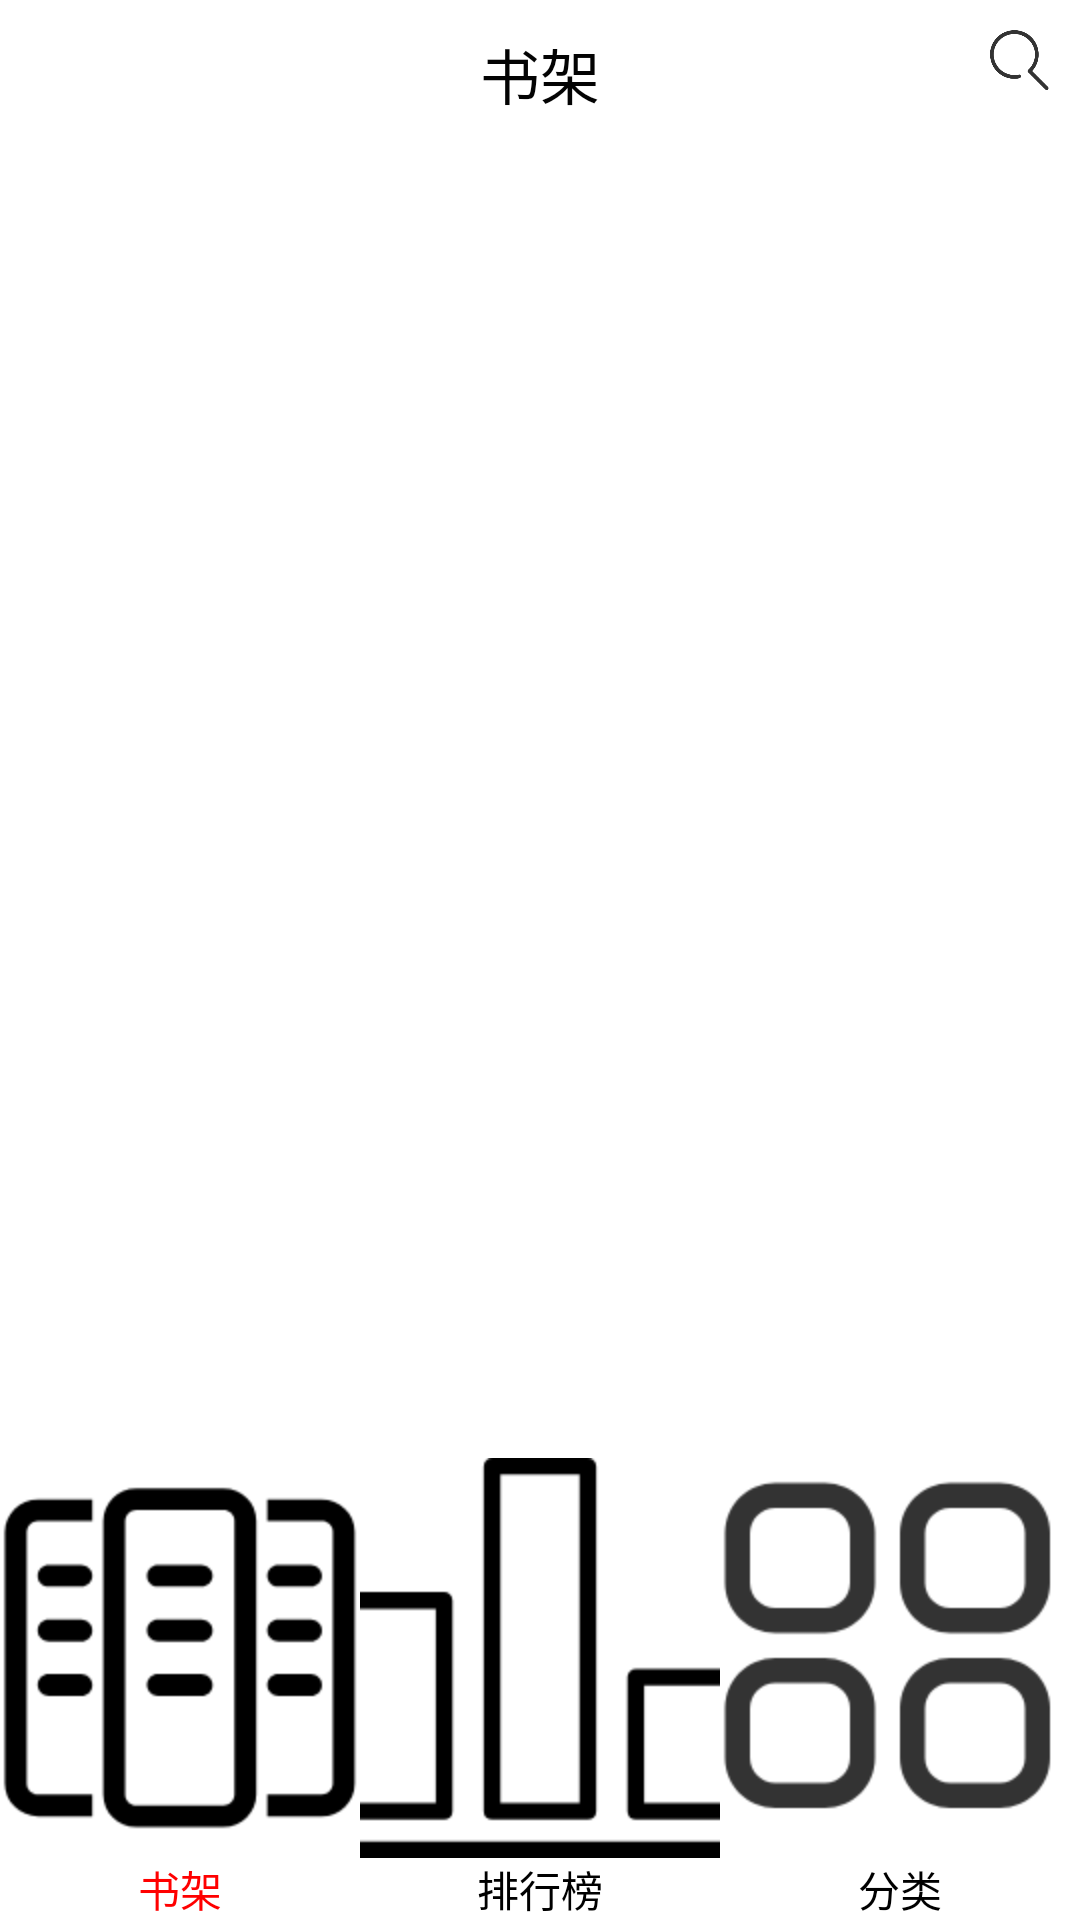

Screen size 1080px x 1920px. Icon name, then its center in pixels as [x,y]:
search: [1019,60]
